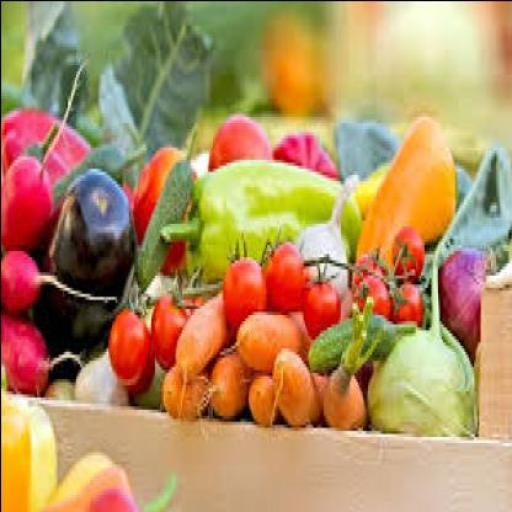biodegradable: (164, 155, 362, 281), (32, 164, 134, 375), (368, 250, 482, 433), (100, 2, 215, 146), (355, 110, 459, 268), (11, 1, 94, 138), (442, 143, 511, 287), (137, 122, 198, 280), (37, 448, 176, 510), (324, 289, 382, 427), (2, 107, 90, 195), (135, 143, 196, 268), (2, 76, 105, 143), (54, 134, 145, 208), (2, 399, 60, 509), (440, 238, 498, 347), (309, 310, 415, 368), (236, 298, 310, 368), (2, 150, 55, 246), (174, 290, 228, 376), (224, 229, 270, 326), (274, 344, 328, 424), (152, 277, 198, 365), (1, 311, 53, 387), (336, 116, 398, 177), (112, 290, 154, 376), (2, 244, 55, 311), (210, 110, 270, 168), (73, 341, 129, 402), (262, 232, 304, 311), (304, 253, 343, 335), (272, 128, 342, 170), (212, 338, 246, 415), (166, 356, 208, 418), (393, 222, 427, 280), (357, 268, 393, 320), (128, 338, 158, 396), (392, 274, 424, 320), (352, 248, 384, 290), (248, 369, 274, 420), (41, 372, 77, 396)
